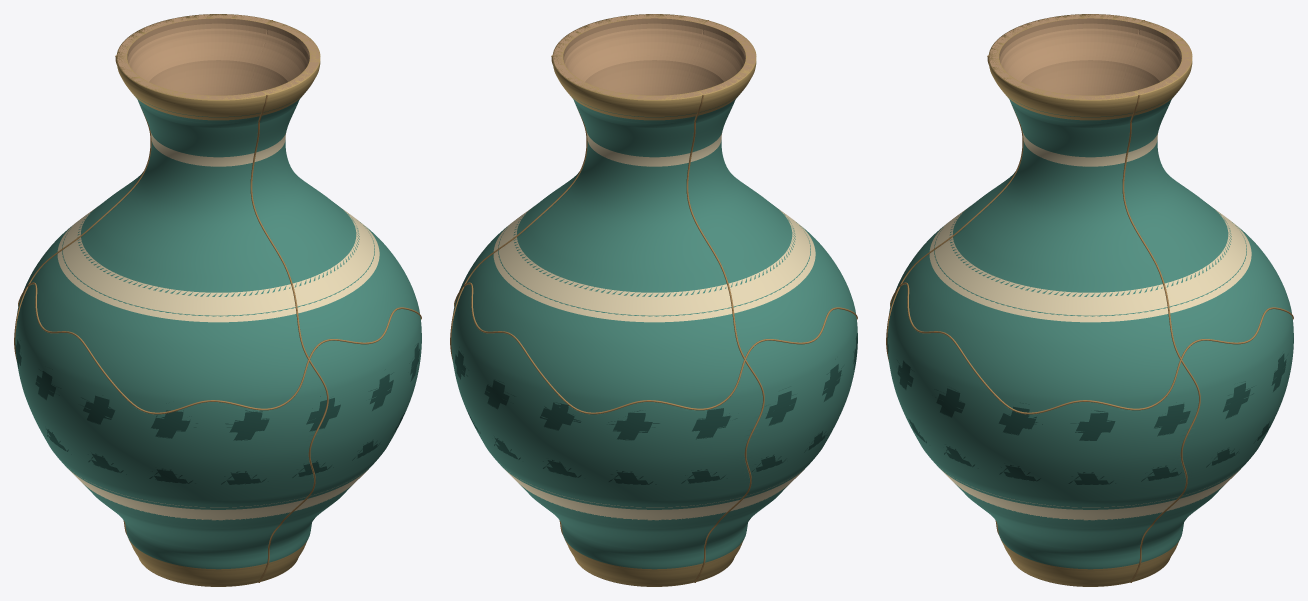
Rendered from vazo.glb.
3 views of the same model, side by side, from view 1: azimuth 30°, elevation 25°; view 2: azimuth 150°, elevation 25°; view 3: azimuth 270°, elevation 25° (orthographic).
Visible parts, largest first — view 1: Vazo_Saglam, Vazo_Parca_06, Vazo_Parca_03, Vazo_Parca_04, Vazo_Parca_05, Vazo_Parca_01, Onarim_Izleri; view 2: Vazo_Saglam, Vazo_Parca_05, Vazo_Parca_02, Vazo_Parca_06, Vazo_Parca_04, Vazo_Parca_03, Onarim_Izleri; view 3: Vazo_Saglam, Vazo_Parca_04, Vazo_Parca_01, Vazo_Parca_05, Vazo_Parca_06, Vazo_Parca_02, Onarim_Izleri.
Boxes of the visible parts, left/top/right/bottom form: Vazo_Saglam: left=15, top=14, right=421, bottom=586; Vazo_Parca_06: left=33, top=56, right=300, bottom=404; Vazo_Parca_03: left=16, top=293, right=322, bottom=586; Vazo_Parca_04: left=248, top=21, right=416, bottom=348; Vazo_Parca_05: left=30, top=14, right=270, bottom=280; Vazo_Parca_01: left=260, top=314, right=421, bottom=581; Onarim_Izleri: left=14, top=20, right=421, bottom=582; Vazo_Saglam: left=451, top=14, right=857, bottom=586; Vazo_Parca_05: left=469, top=56, right=736, bottom=404; Vazo_Parca_02: left=452, top=293, right=758, bottom=586; Vazo_Parca_06: left=684, top=21, right=852, bottom=348; Vazo_Parca_04: left=466, top=14, right=706, bottom=280; Vazo_Parca_03: left=696, top=314, right=857, bottom=581; Onarim_Izleri: left=450, top=20, right=857, bottom=582; Vazo_Saglam: left=887, top=14, right=1293, bottom=586; Vazo_Parca_04: left=905, top=56, right=1172, bottom=404; Vazo_Parca_01: left=888, top=293, right=1194, bottom=586; Vazo_Parca_05: left=1120, top=21, right=1288, bottom=348; Vazo_Parca_06: left=902, top=14, right=1142, bottom=280; Vazo_Parca_02: left=1132, top=314, right=1293, bottom=581; Onarim_Izleri: left=886, top=20, right=1293, bottom=582.
Bounding box in the file's own units: 32.71 × 44.04 × 32.81.
